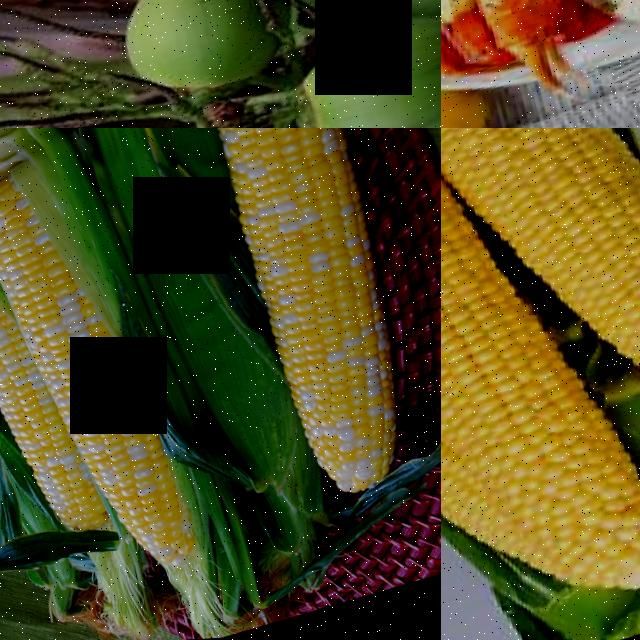coconut: (90, 0, 284, 115), (277, 0, 441, 128)
corn: (189, 128, 433, 520), (458, 361, 640, 624), (54, 346, 206, 581), (481, 128, 640, 326), (0, 156, 133, 383), (441, 229, 548, 426), (441, 362, 518, 588), (0, 368, 90, 557), (585, 238, 640, 525), (441, 128, 608, 210), (0, 205, 35, 403)
